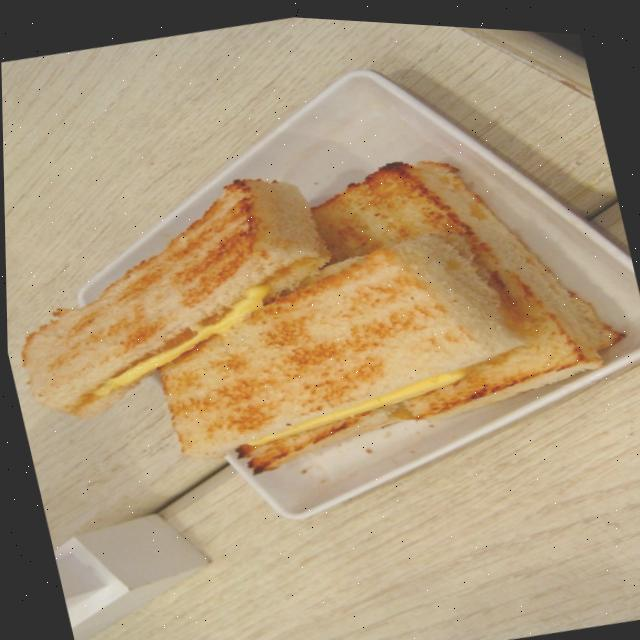面包点心: (0, 23, 640, 616)
